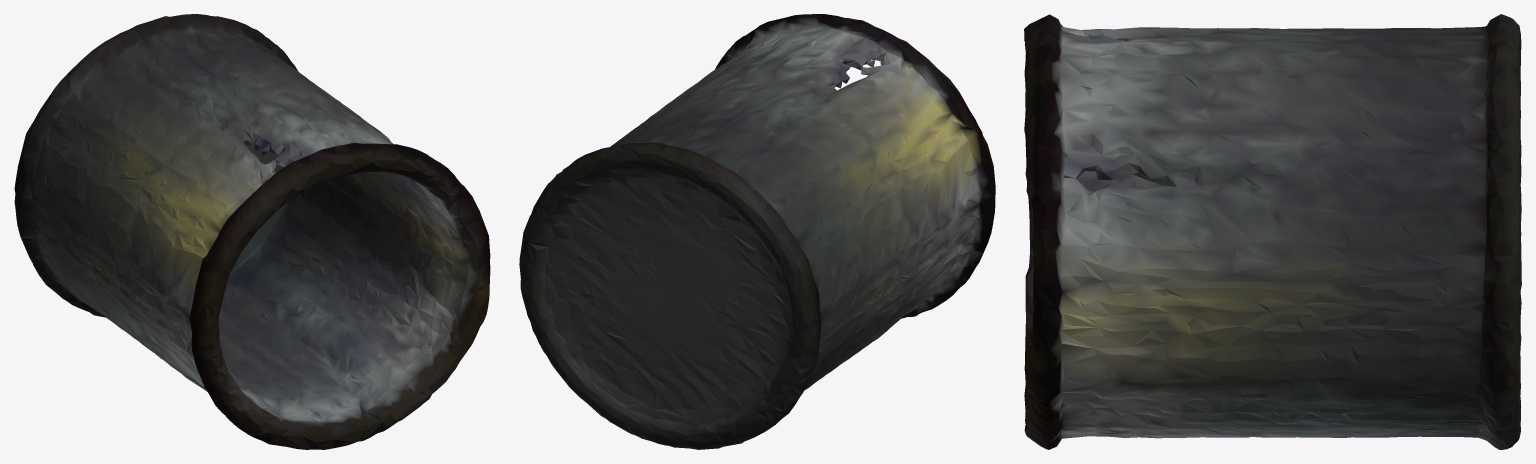
The model's file is pen_holder_1.glb.
3 views of the same model, side by side, from view 1: azimuth 30°, elevation 25°; view 2: azimuth 150°, elevation 25°; view 3: azimuth 270°, elevation 25° (orthographic). The views are drawn at different scales.
Parts seen in each view (by area): view 1: geometry_0; view 2: geometry_0; view 3: geometry_0.
Part boxes in pixels (x1=…): geometry_0: x1=14, y1=14, x2=490, y2=449; geometry_0: x1=519, y1=14, x2=995, y2=449; geometry_0: x1=1024, y1=14, x2=1521, y2=449.
Size of the model in its own units: 0.8996 by 0.8669 by 1.
